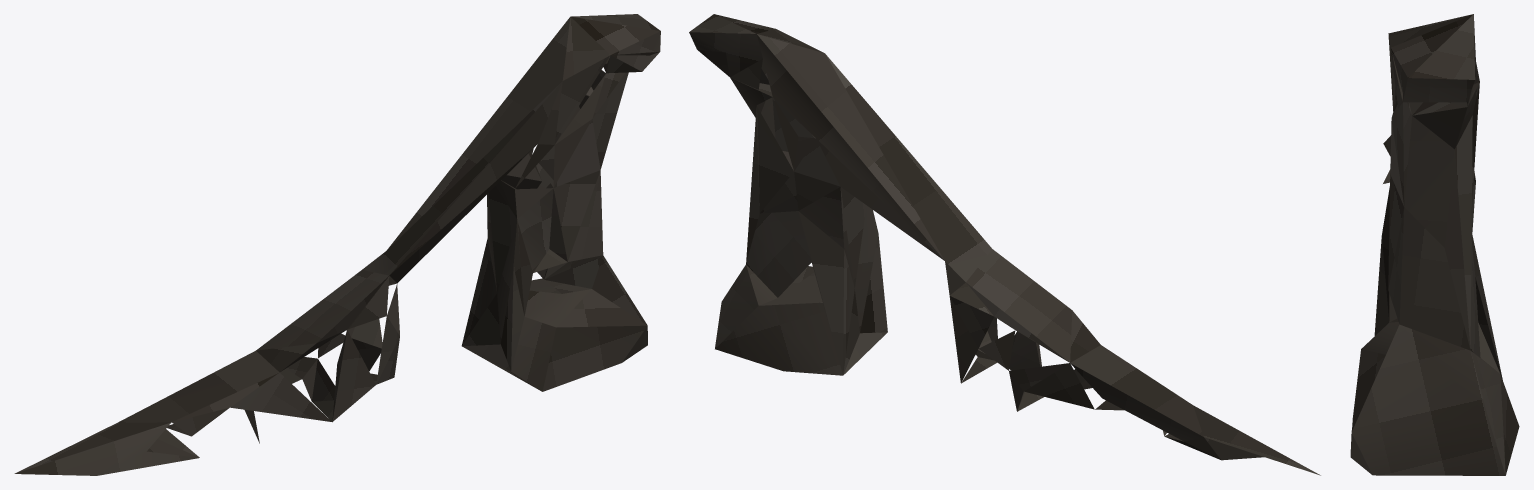
The model's file is stunt-launch-ramp.collision.glb.
3 renders of one model, left to right at view 1: azimuth 30°, elevation 25°; view 2: azimuth 150°, elevation 25°; view 3: azimuth 270°, elevation 25°, orthographic. The views are drawn at different scales.
Parts seen in each view (by area): view 1: output_unwrapped; view 2: output_unwrapped; view 3: output_unwrapped.
Part boxes in pixels (x1,y1,x2,y2): output_unwrapped: (14, 14, 660, 475); output_unwrapped: (689, 14, 1320, 475); output_unwrapped: (1350, 14, 1519, 475).
Bounding box in the file's own units: 1.76 × 0.866 × 0.2928.
Materials: 1 (1 with a texture image).
